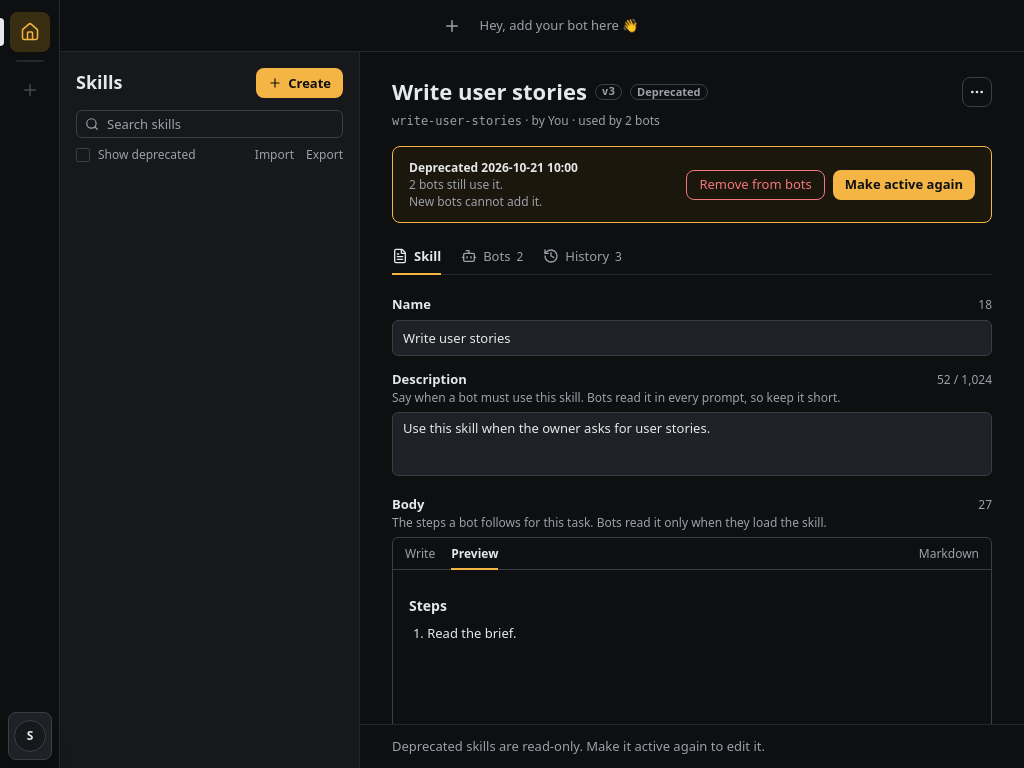
Test: Remove from bots on a deprecated skill › stays pending until every removal has ended, so a second click sends nothing
This screenshot has width=1024, height=768.
Step 1. Click the button "Remove from bots" → (756, 185), box [686,170,825,200]
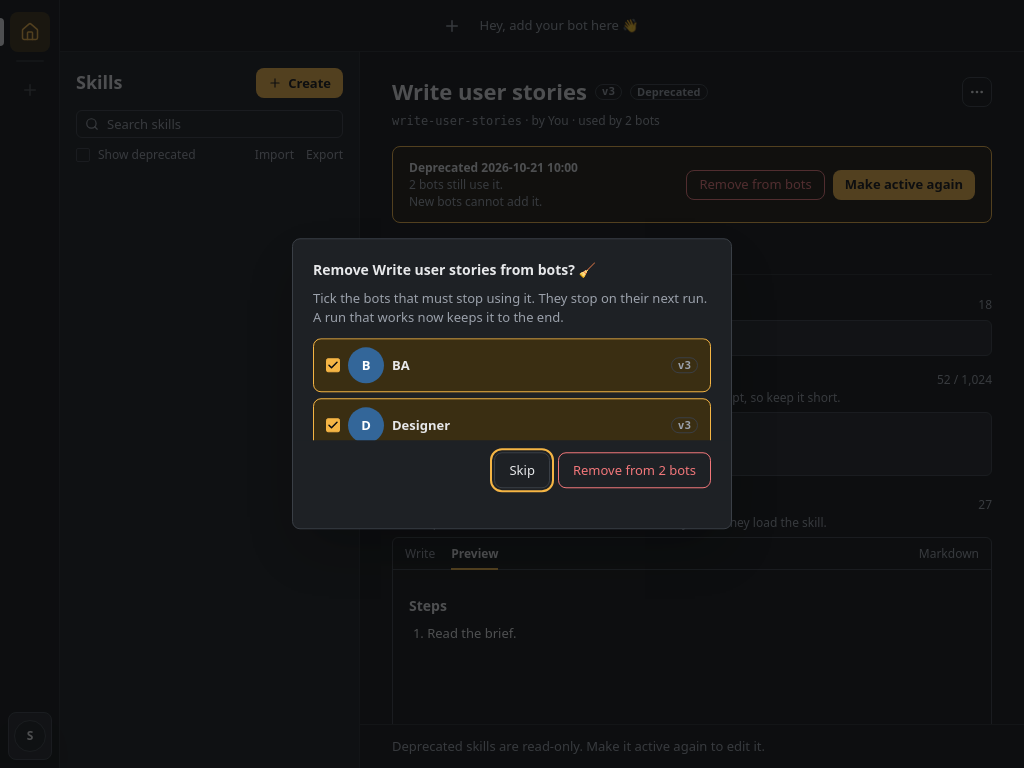
Step 2. Click the button "Remove from 2 bots" → (634, 471), box [558,453,711,489]
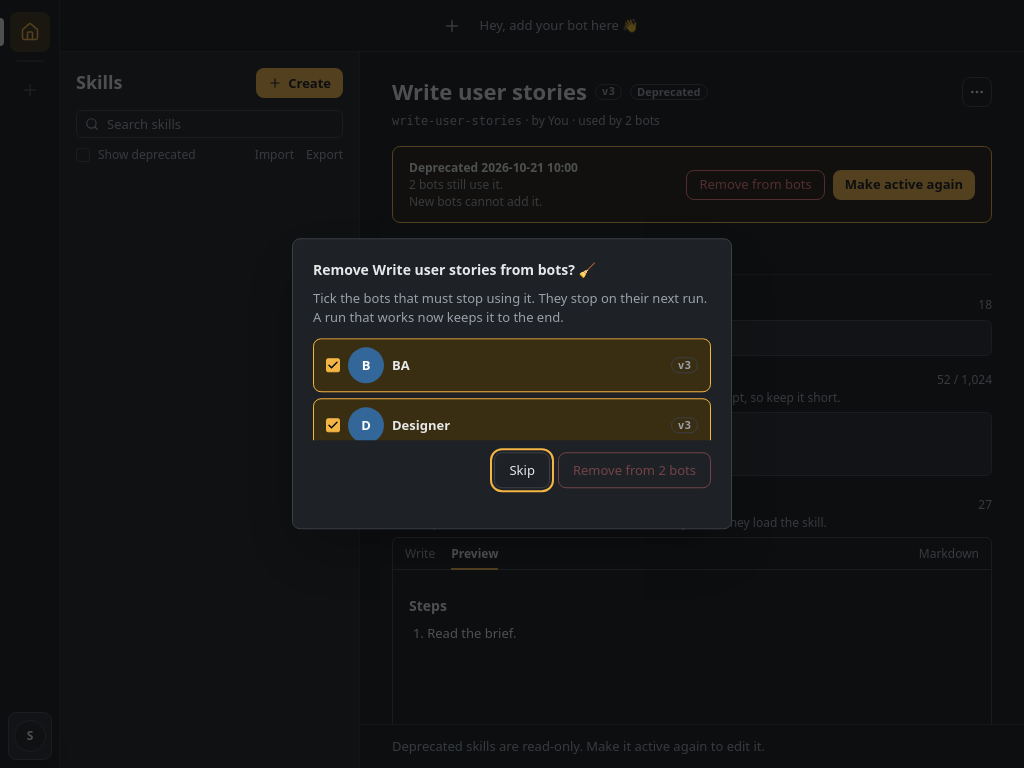
Expected: the button "Remove from 2 bots" is disabled
Step 3. Click the button "Remove from 2 bots" → (634, 471), box [558,453,711,489]
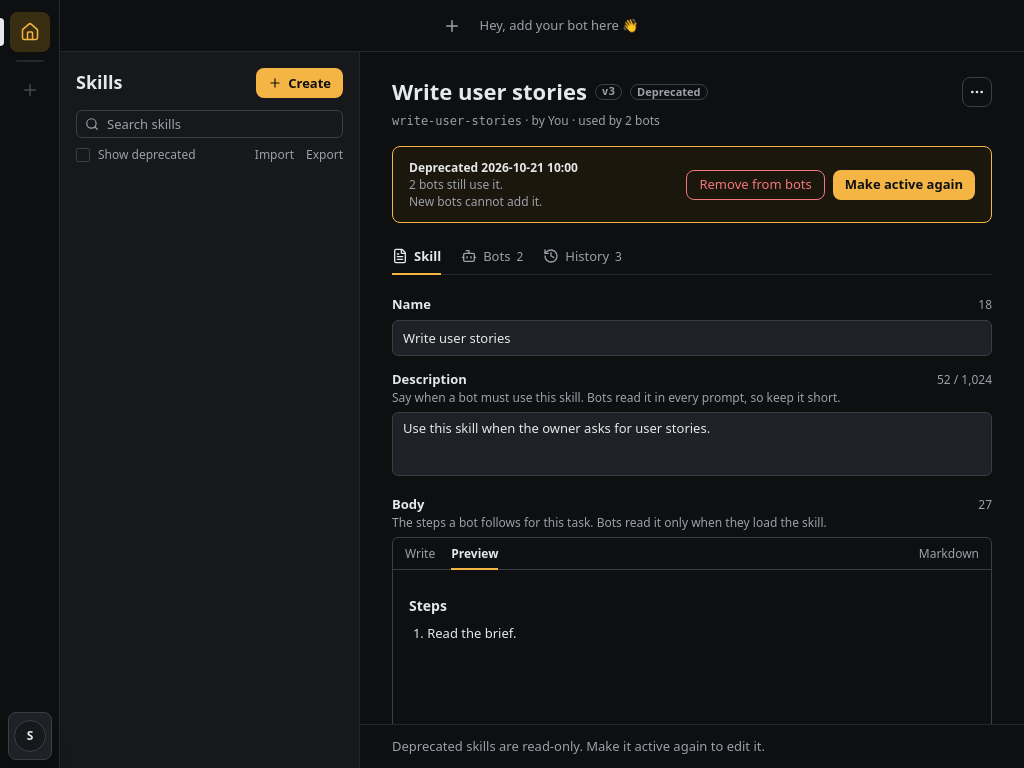
Expected: the dialog is gone
